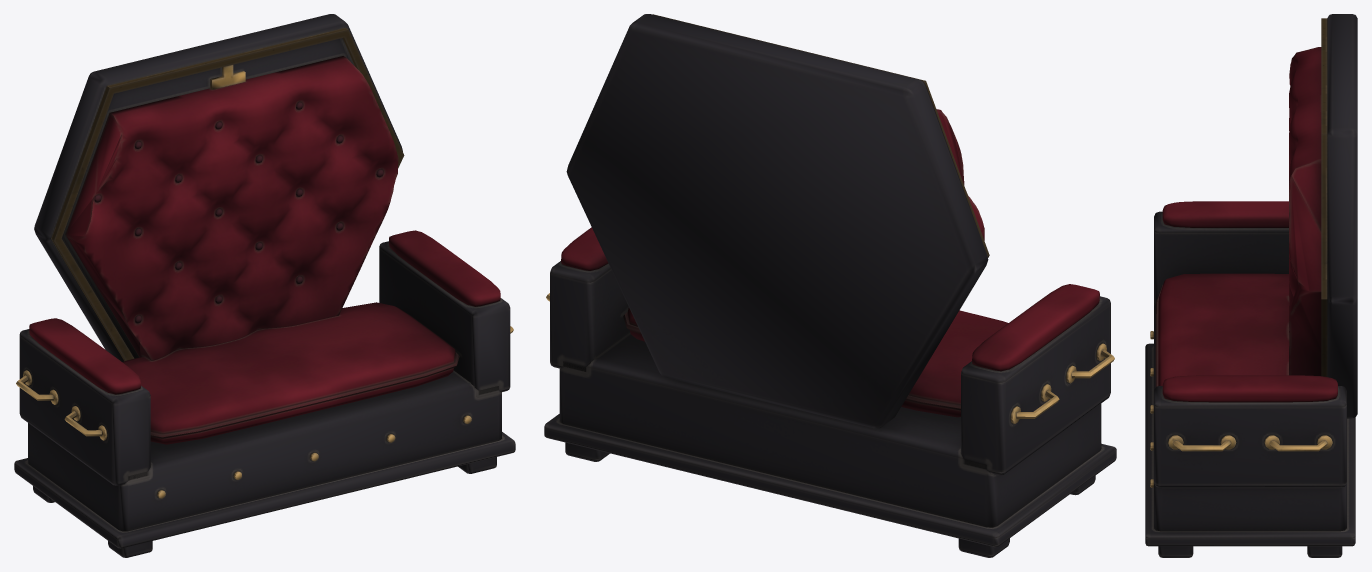
The model's file is CoffinCouch.fbx.
The picture shows the model from 3 angles, left to right: view 1: azimuth 30°, elevation 25°; view 2: azimuth 150°, elevation 25°; view 3: azimuth 270°, elevation 25°; orthographic projection. The views are drawn at different scales.
Parts seen in each view (by area): view 1: CoffinCouch; view 2: CoffinCouch; view 3: CoffinCouch.
Boxes of the visible parts, x1,y1,x2,y2 form: CoffinCouch: (14,14,515,557); CoffinCouch: (544,14,1116,557); CoffinCouch: (1145,14,1357,557).
Bounding box in the file's own units: 560 × 500 × 243.
